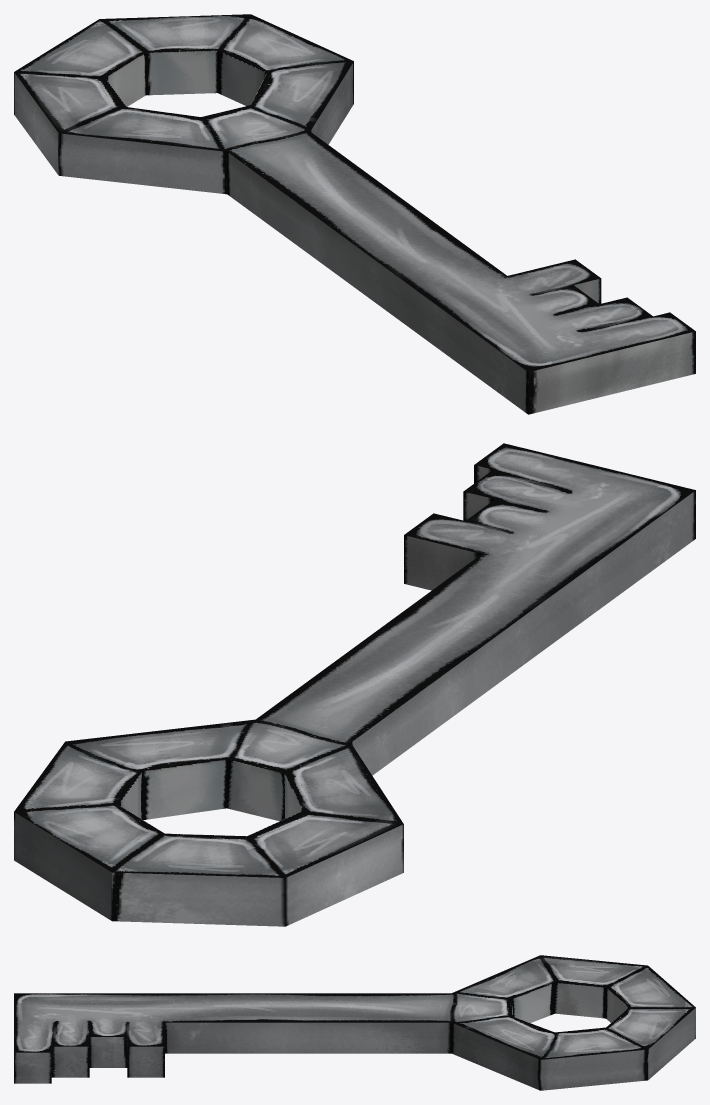
The model's file is Key.fbx.
3 views of the same model, one above another, from view 1: azimuth 30°, elevation 25°; view 2: azimuth 150°, elevation 25°; view 3: azimuth 270°, elevation 25° (orthographic). The views are drawn at different scales.
Parts seen in each view (by area): view 1: Key; view 2: Key; view 3: Key.
Boxes of the visible parts, left/top/right/bottom form: Key: left=14, top=14, right=695, bottom=414; Key: left=14, top=443, right=695, bottom=926; Key: left=14, top=955, right=695, bottom=1090.
Bounding box in the file's own units: 10.99 × 1.51 × 30.22.
